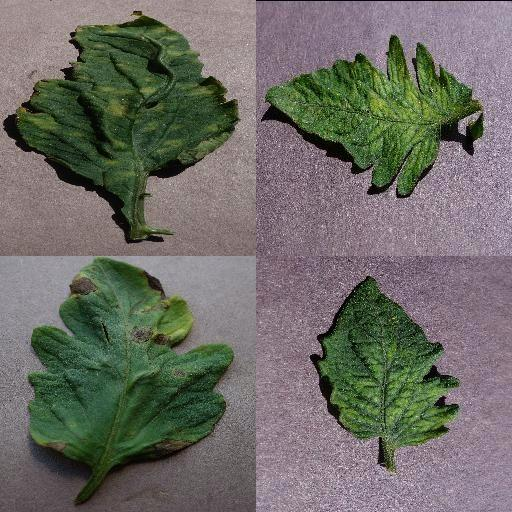Early Blight: (27, 257, 235, 467)
Leaf Mold: (18, 11, 240, 187)
Mosaic Virus: (263, 32, 473, 198), (317, 275, 463, 447)
